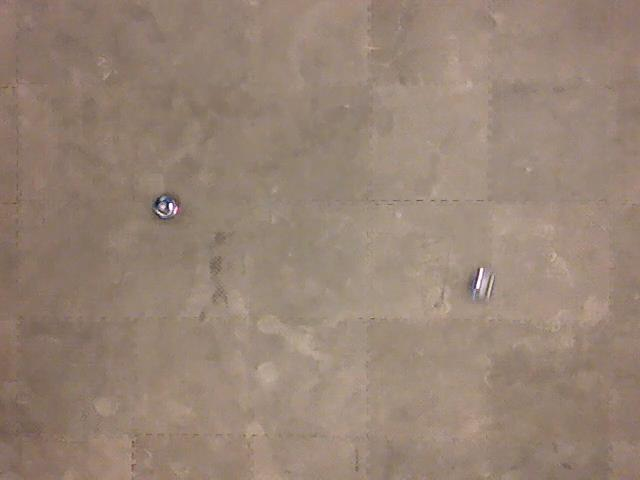Agent: (466, 264, 498, 305), (149, 191, 182, 221)
